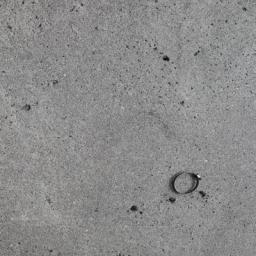FOD: (169, 171, 206, 197)
